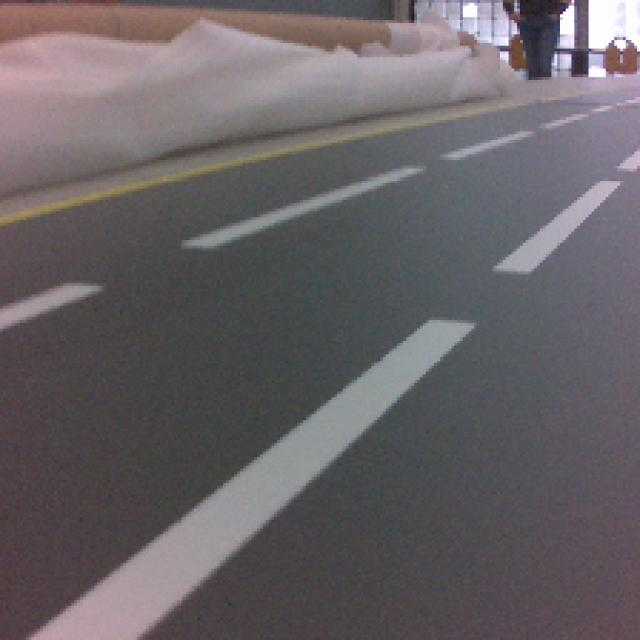Guard rail: (33, 322, 475, 640)
